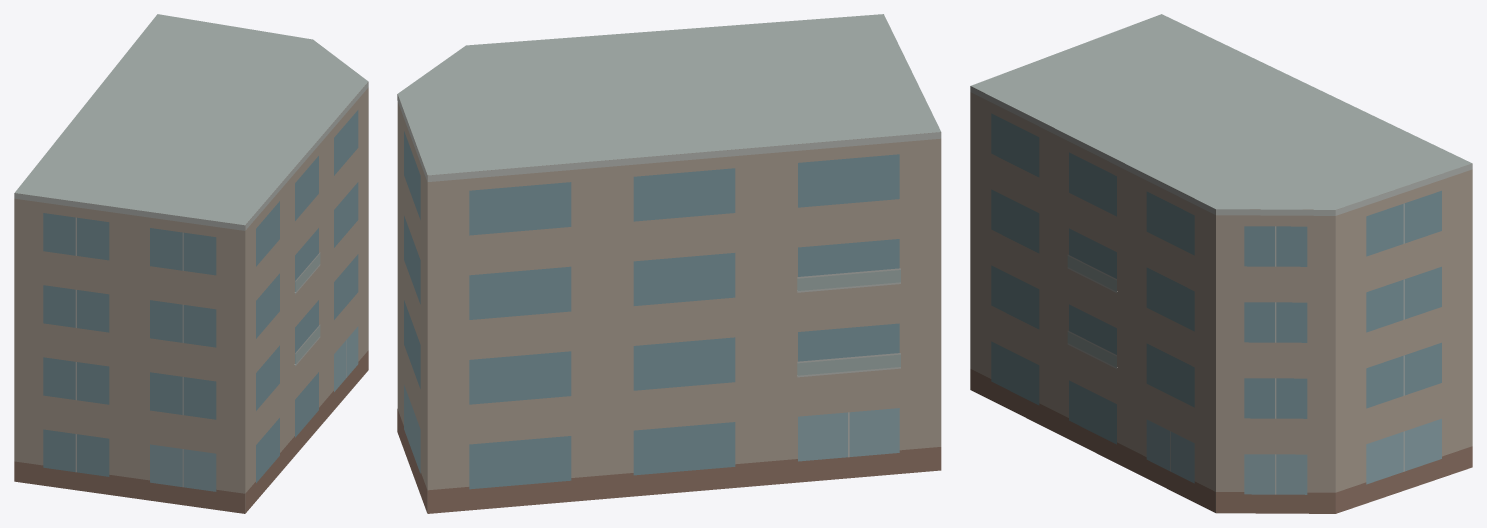
Rendered from survey-upis-32909133.glb.
3 views of the same model, side by side, from view 1: azimuth 30°, elevation 25°; view 2: azimuth 150°, elevation 25°; view 3: azimuth 270°, elevation 25° (orthographic). The views are drawn at different scales.
Parts seen in each view (by area): view 1: survey-upis-32909133.tmp; view 2: survey-upis-32909133.tmp; view 3: survey-upis-32909133.tmp.
Boxes of the visible parts, x1=… form: survey-upis-32909133.tmp: x1=14, y1=14, x2=368, y2=513; survey-upis-32909133.tmp: x1=397, y1=14, x2=941, y2=513; survey-upis-32909133.tmp: x1=970, y1=14, x2=1472, y2=513.
Bounding box in the file's own units: 17.01 × 12.3 × 18.42.
